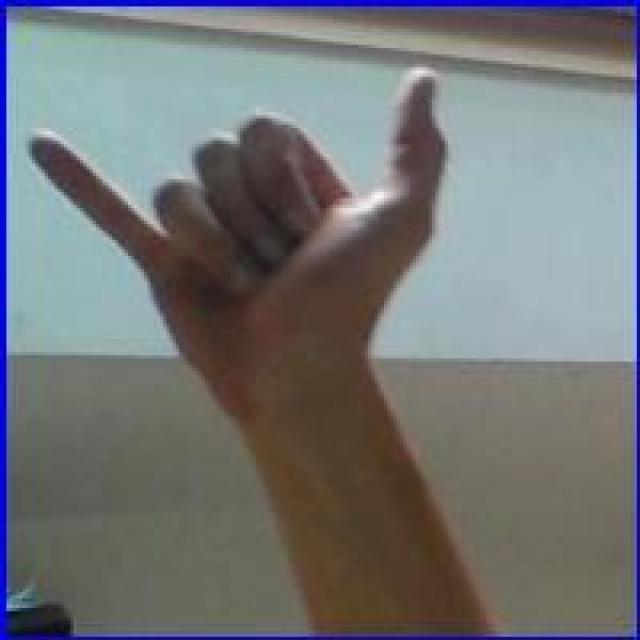Y: (22, 67, 458, 381)
